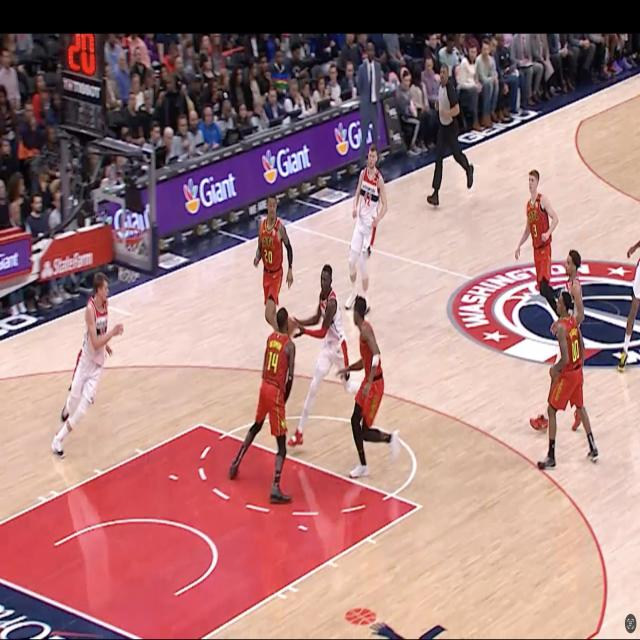no foul: (504, 161, 604, 489), (299, 260, 405, 490)
